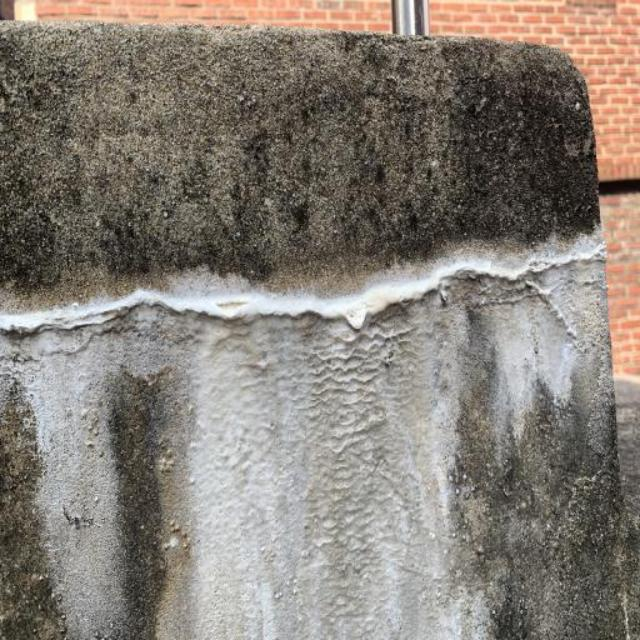D01: (10, 242, 609, 639)
